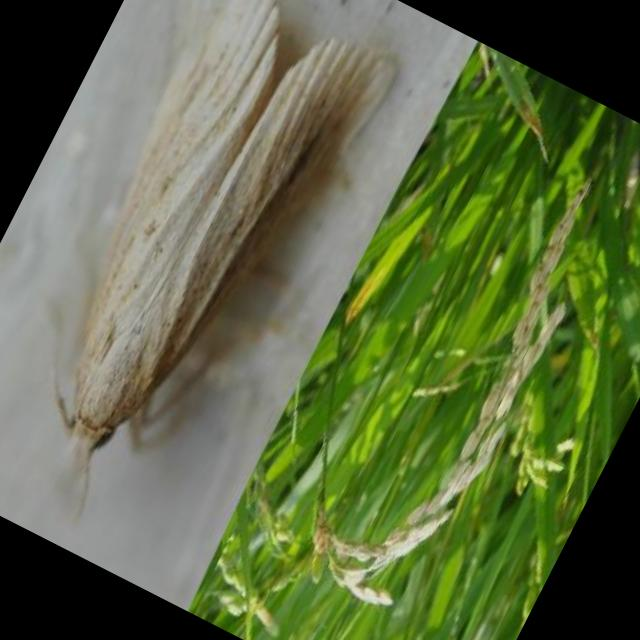stem-borer: (0, 0, 405, 535)
